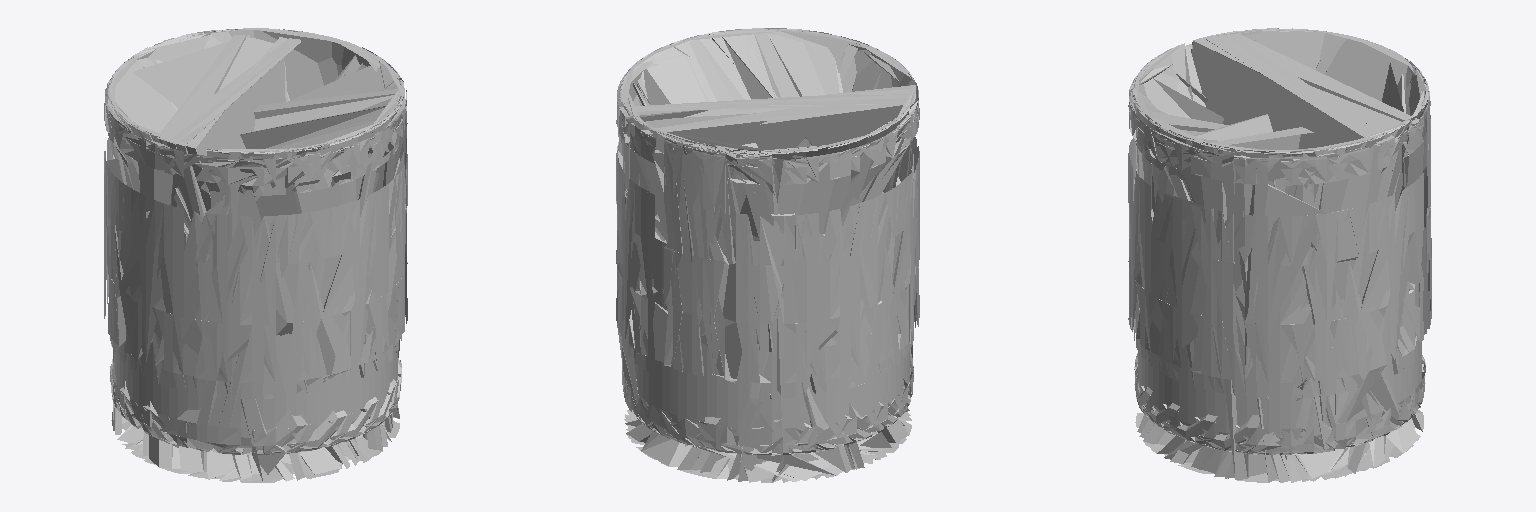
Rendered from uploads_files_830301_water+glass.obj.
3 views of the same model, side by side, from view 1: azimuth 30°, elevation 25°; view 2: azimuth 150°, elevation 25°; view 3: azimuth 270°, elevation 25° (orthographic).
Bounding box in the file's own units: 4.15 × 5.06 × 4.15.